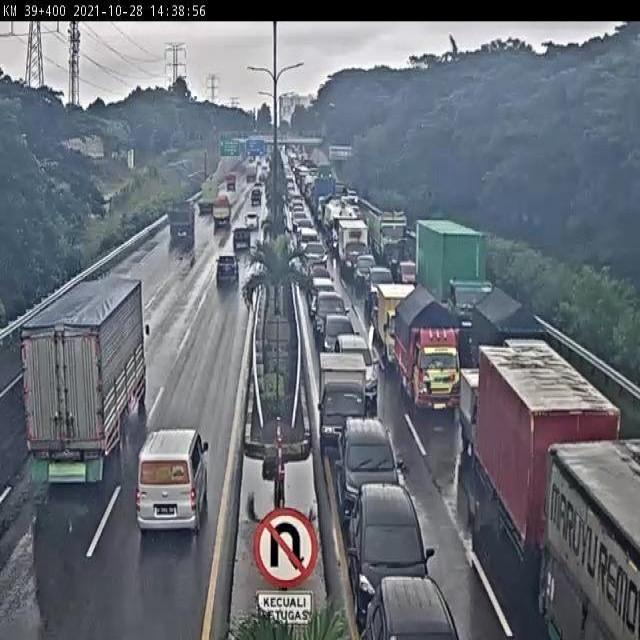big truck: (479, 345, 626, 595), (21, 276, 150, 484), (417, 220, 491, 341), (193, 180, 220, 221), (243, 166, 255, 186)
car: (349, 486, 436, 618), (135, 427, 210, 532), (335, 418, 399, 530), (363, 577, 460, 640), (335, 336, 380, 403), (319, 315, 360, 369), (312, 290, 350, 342), (367, 265, 395, 308), (309, 276, 334, 316), (300, 252, 323, 295), (215, 253, 242, 288), (297, 226, 319, 262), (355, 255, 376, 288), (230, 229, 251, 256), (242, 215, 259, 237), (254, 176, 266, 191), (251, 184, 263, 197)
small truck: (469, 286, 548, 411), (393, 287, 462, 416), (458, 365, 521, 468), (317, 348, 369, 449), (377, 283, 420, 369), (339, 220, 369, 276), (165, 204, 195, 243), (210, 193, 233, 230), (222, 175, 235, 193), (250, 192, 261, 209)
